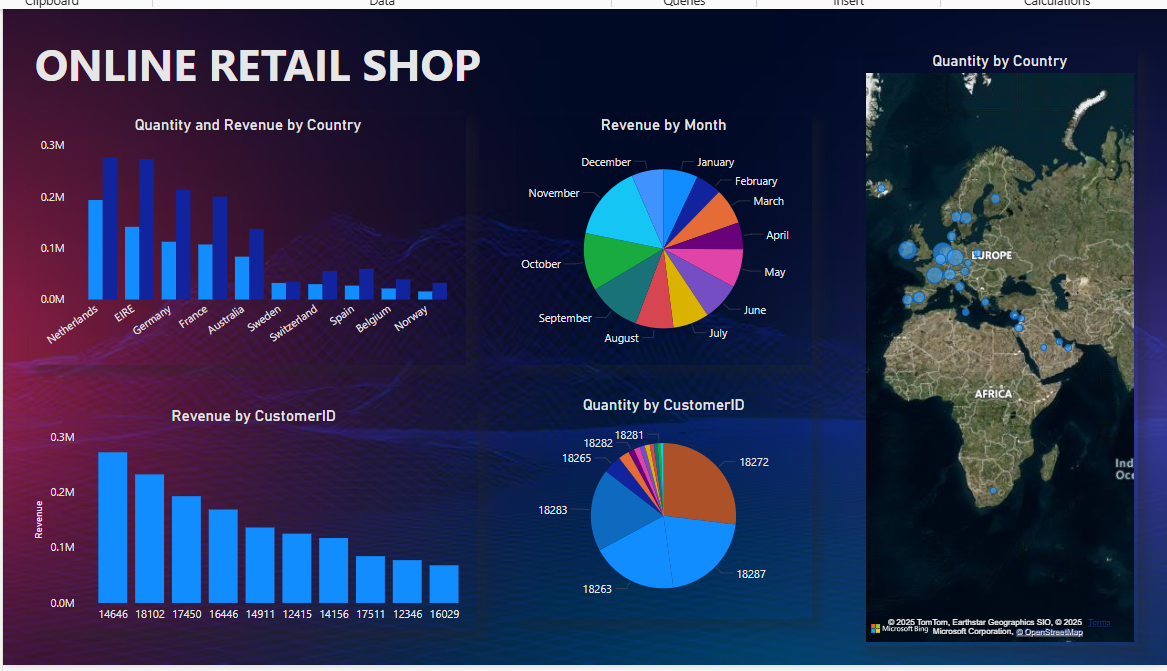

What the dashboard file says about the page in this screenshot:
{"tool":"powerbi","page":{"name":"Page 1","canvas":[1280,720],"ordinal":4},"visuals":[{"type":"textbox","box":[15.1,22,1240.5,74.1],"z":0},{"type":"pieChart","fields":{"Category":["Online Retail.InvoiceDate.Variation.Date Hierarchy.Month"],"Y":["Sum(Online Retail.Revenue)"]},"box":[562.6,116.6,325.2,274.4],"z":1000},{"type":"clusteredColumnChart","fields":{"Y":["Sum(Online Retail.Quantity)","Sum(Online Retail.Revenue)"],"Category":["Online Retail.Country"]},"box":[28.8,116.6,480.3,274.4],"z":2000},{"type":"clusteredColumnChart","fields":{"Category":["Online Retail.CustomerID"],"Y":["Sum(Online Retail.Revenue)"]},"box":[28.8,436.4,492.6,245.6],"z":3000},{"type":"map","fields":{"Category":["Online Retail.Country"],"Size":["Sum(Online Retail.Quantity)"]},"box":[942.7,46.7,303.3,653.2],"z":4000},{"type":"pieChart","fields":{"Category":["Online Retail.CustomerID"],"Y":["Sum(Online Retail.Quantity)"]},"box":[562.6,424,325.2,245.6],"z":5000}]}

Visuals, with their boxes on the page's 1280x720 design canvas (x1, y1, x2, y2). These are canvas units, not pixel positions in the 1167x671 screenshot, which may show the page scaled, cropped or inside an application window:
textbox: x1=15 y1=22 x2=1256 y2=96
pieChart - Online Retail.InvoiceDate.Variation.Date Hierarchy.Month x Sum(Online Retail.Revenue): x1=563 y1=117 x2=888 y2=391
clusteredColumnChart - Sum(Online Retail.Quantity) x Sum(Online Retail.Revenue): x1=29 y1=117 x2=509 y2=391
clusteredColumnChart - Online Retail.CustomerID x Sum(Online Retail.Revenue): x1=29 y1=436 x2=521 y2=682
map - Online Retail.Country x Sum(Online Retail.Quantity): x1=943 y1=47 x2=1246 y2=700
pieChart - Online Retail.CustomerID x Sum(Online Retail.Quantity): x1=563 y1=424 x2=888 y2=670
